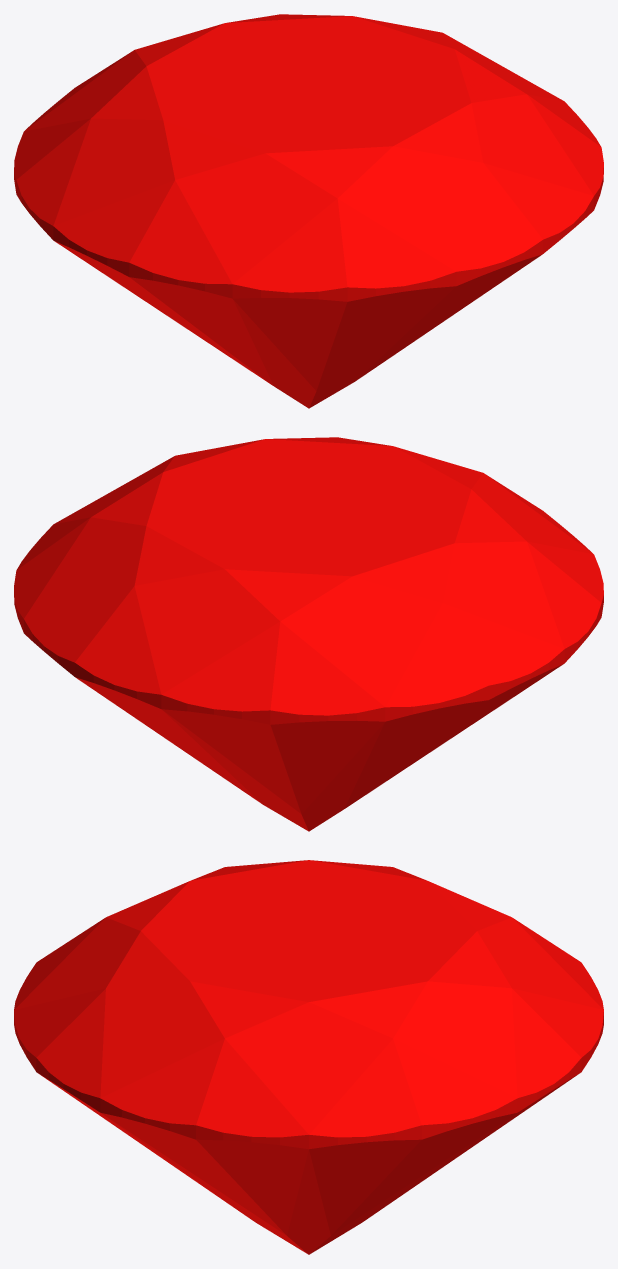
File: Jewel02.fbx
3 views of the same model, one above another, from view 1: azimuth 30°, elevation 25°; view 2: azimuth 150°, elevation 25°; view 3: azimuth 270°, elevation 25° (orthographic).
Visible parts, largest first — view 1: Round.001; view 2: Round.001; view 3: Round.001.
Part boxes in pixels (box(x1,y1,x2,y2)): Round.001: box(14, 14, 603, 408); Round.001: box(14, 437, 603, 831); Round.001: box(14, 860, 603, 1254).
Size of the model in its own units: 0.1 by 0.0606 by 0.1.
